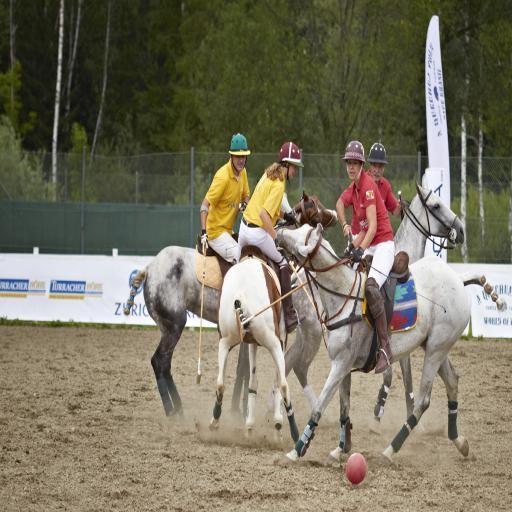horse: (120, 178, 506, 464), (274, 221, 472, 468), (208, 186, 340, 450), (122, 233, 240, 423)
